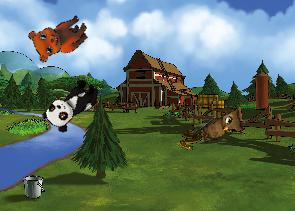bear: (23, 2, 93, 69)
owl: (196, 103, 250, 154)
panda: (39, 72, 104, 136)
